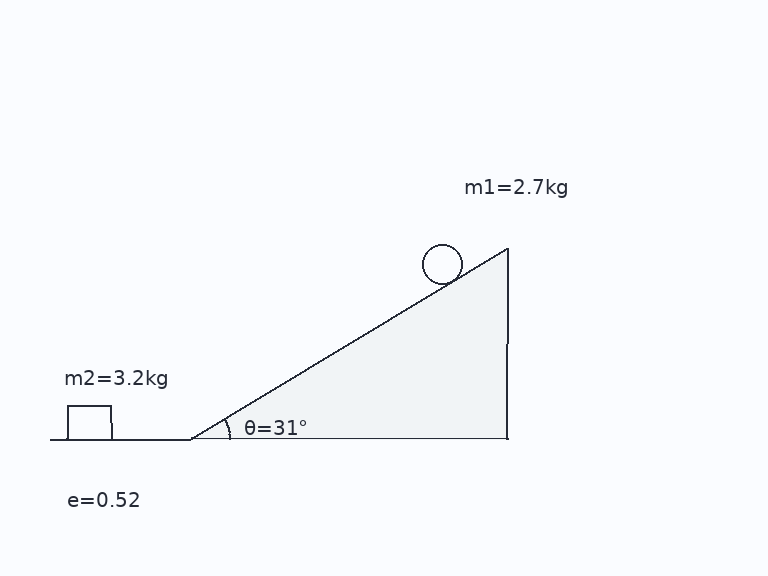ball: (420, 242, 464, 286)
block: (65, 405, 113, 441)
ramp: (188, 246, 509, 441)
